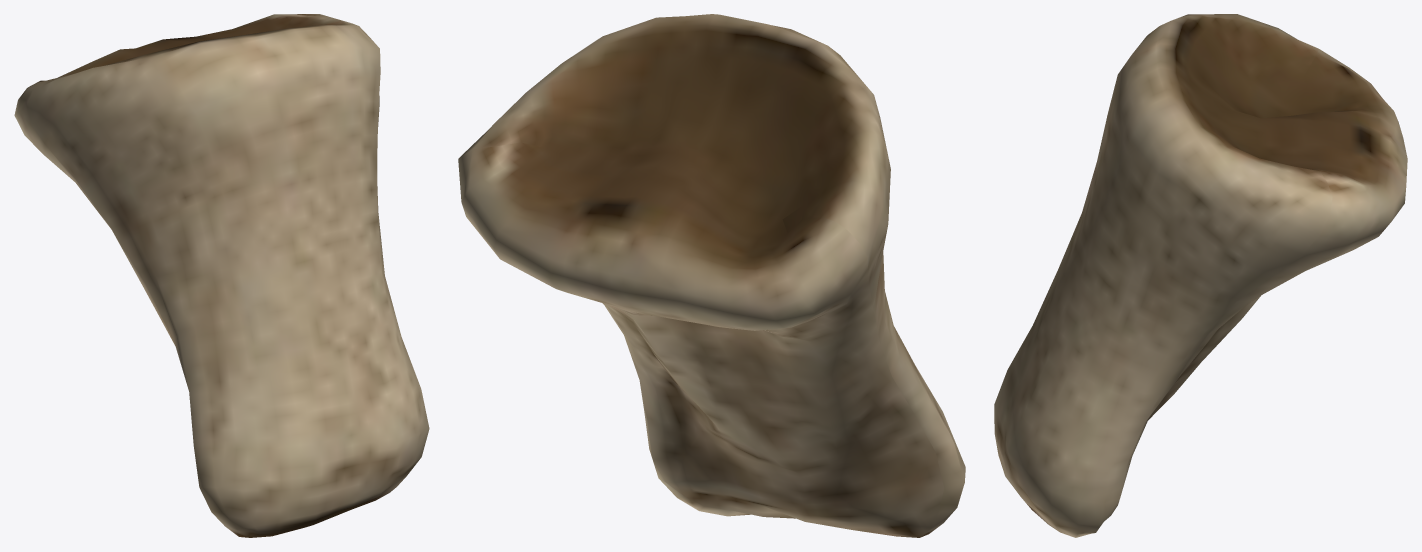
File: Long_Pastern.glb
3 views of the same model, side by side, from view 1: azimuth 30°, elevation 25°; view 2: azimuth 150°, elevation 25°; view 3: azimuth 270°, elevation 25° (orthographic). The views are drawn at different scales.
Parts seen in each view (by area): view 1: L_Frt_Long_Pastern; view 2: L_Frt_Long_Pastern; view 3: L_Frt_Long_Pastern.
Part boxes in pixels (<box>): L_Frt_Long_Pastern: <box>14,14,429,537</box>; L_Frt_Long_Pastern: <box>458,14,965,537</box>; L_Frt_Long_Pastern: <box>994,14,1407,537</box>.
Size of the model in its own units: 0.0639 by 0.0844 by 0.0704.
Materials: 1 (1 with a texture image).
